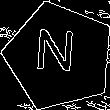N_S: (37, 29, 82, 83)
